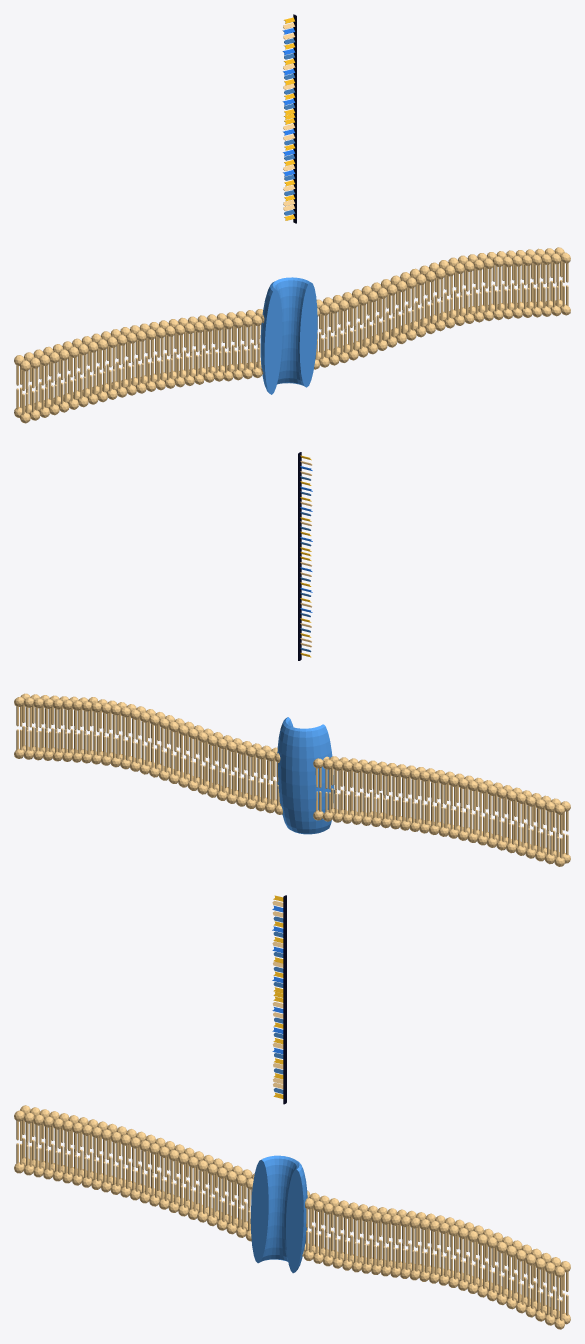
File: sekoskaita.glb
3 renders of one model, top to bottom at view 1: azimuth 30°, elevation 25°; view 2: azimuth 150°, elevation 25°; view 3: azimuth 330°, elevation 25°, orthographic.
Visible parts, largest first — view 1: Icosphere.113, Torus.003, DNR; view 2: Icosphere.113, Torus.003, DNR; view 3: Icosphere.113, Torus.003, DNR.
Part boxes in pixels (x1,y1,x2,y2): Icosphere.113: [14, 247, 570, 423]; Torus.003: [260, 277, 317, 394]; DNR: [282, 14, 296, 223]; Icosphere.113: [14, 693, 570, 866]; Torus.003: [277, 717, 334, 834]; DNR: [298, 452, 312, 660]; Icosphere.113: [14, 1105, 570, 1329]; Torus.003: [250, 1155, 307, 1273]; DNR: [272, 895, 286, 1104].
Size of what is drawn, in the model's own units: 72.24 by 46.88 by 3.47.
